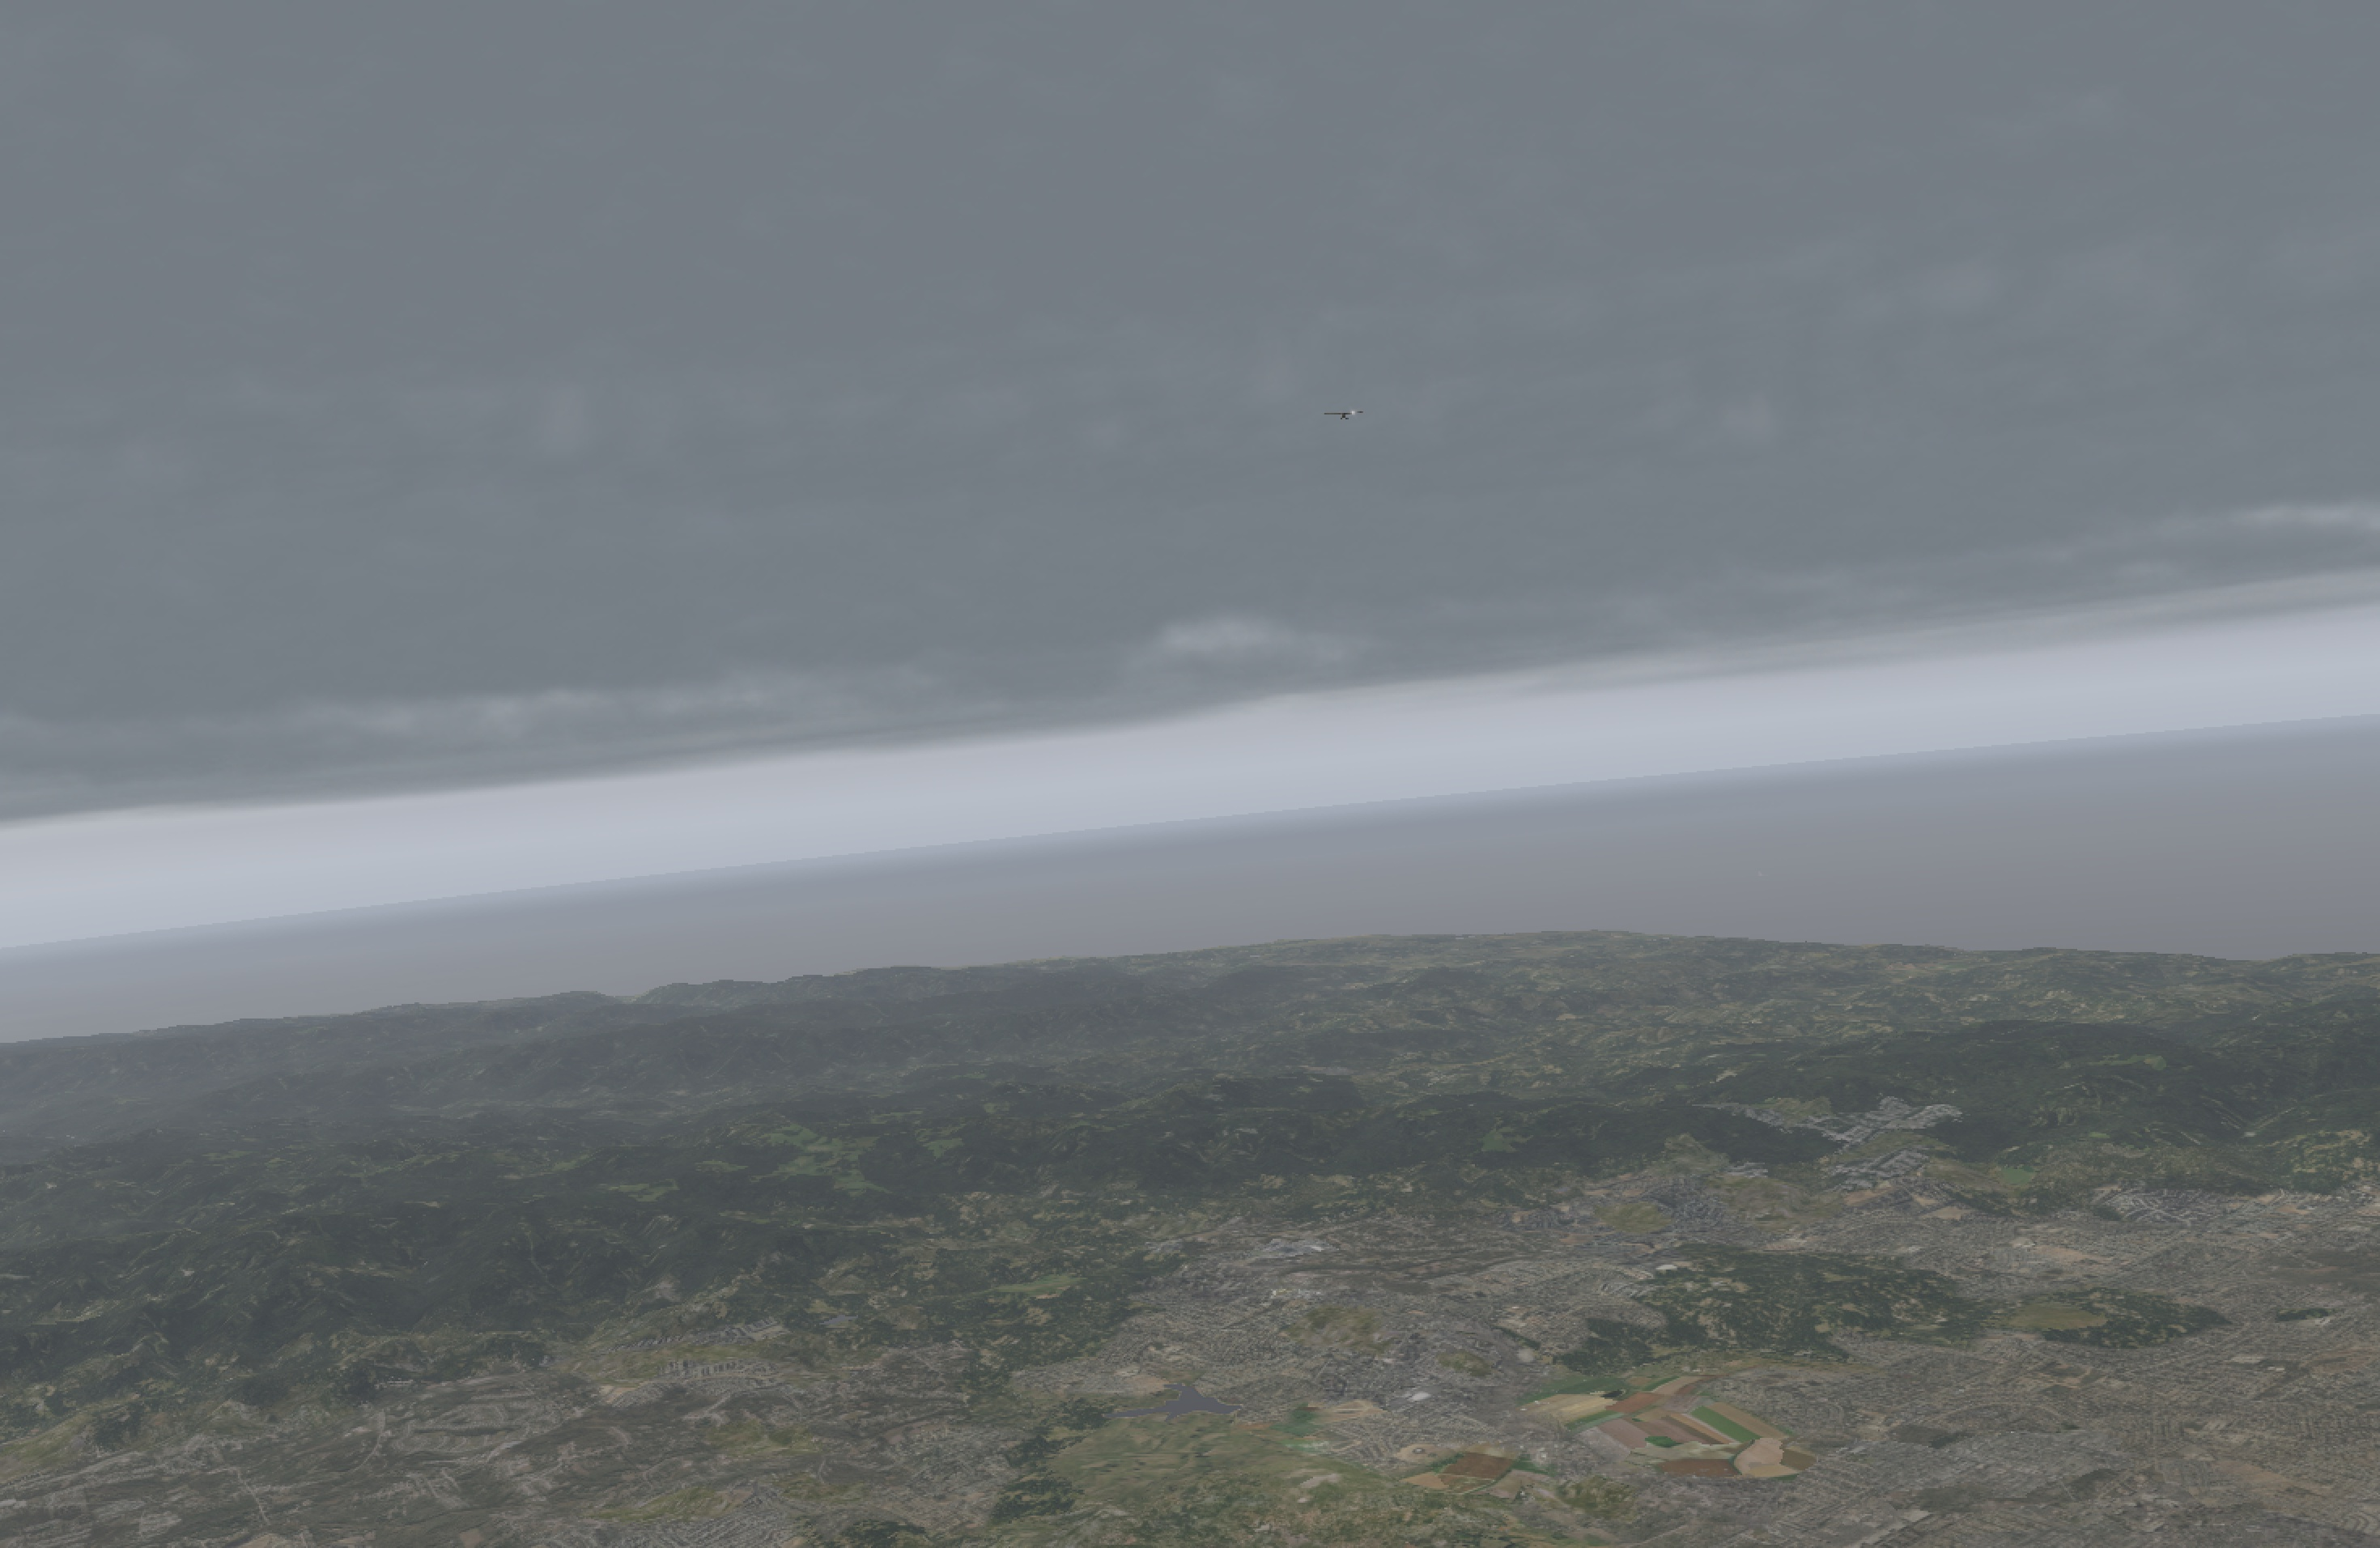aircraft: (1329, 410, 1357, 420)
